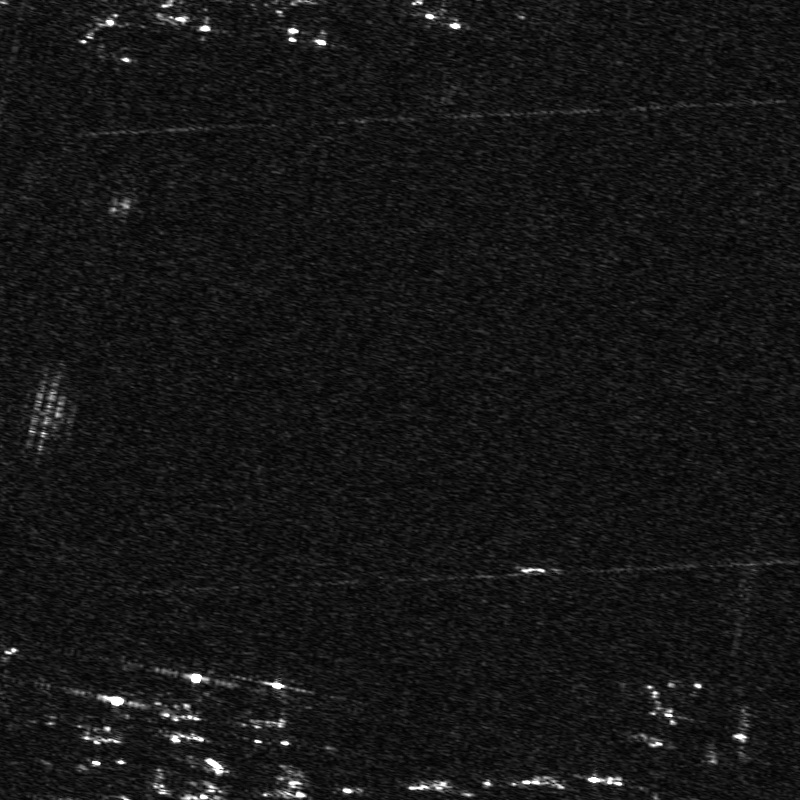A220: (137, 664, 213, 754)
A320/321: (620, 667, 710, 733)
Boeing737: (50, 683, 132, 757)
other: (230, 675, 301, 752)
